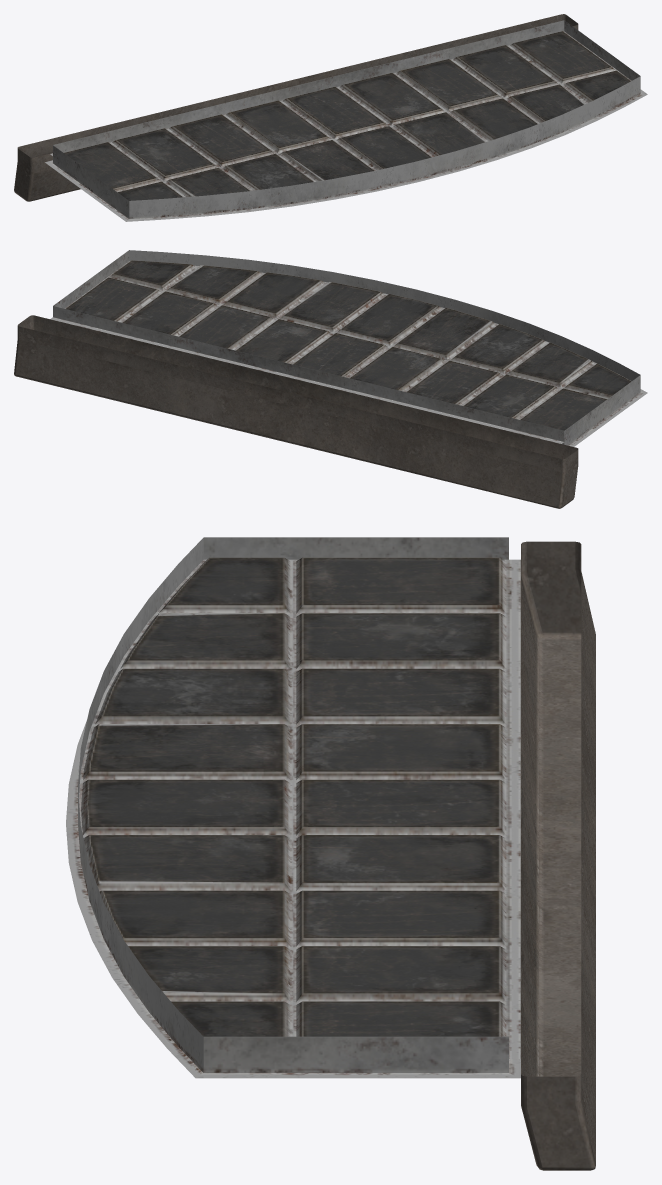
File: window_centered_large_04.gltf
The picture shows the model from 3 angles, top to bottom: view 1: azimuth 30°, elevation 25°; view 2: azimuth 150°, elevation 25°; view 3: azimuth 270°, elevation 25°; orthographic projection. The views are drawn at different scales.
Parts seen in each view (by area): view 1: window_centered_large_04; view 2: window_centered_large_04; view 3: window_centered_large_04.
Part boxes in pixels (x1,y1,x2,y2): window_centered_large_04: (14, 14, 647, 221); window_centered_large_04: (14, 250, 647, 508); window_centered_large_04: (66, 537, 595, 1170).
Bounding box in the file's own units: 2.1 × 0.2167 × 0.8797.
2 materials, 2 textured.
